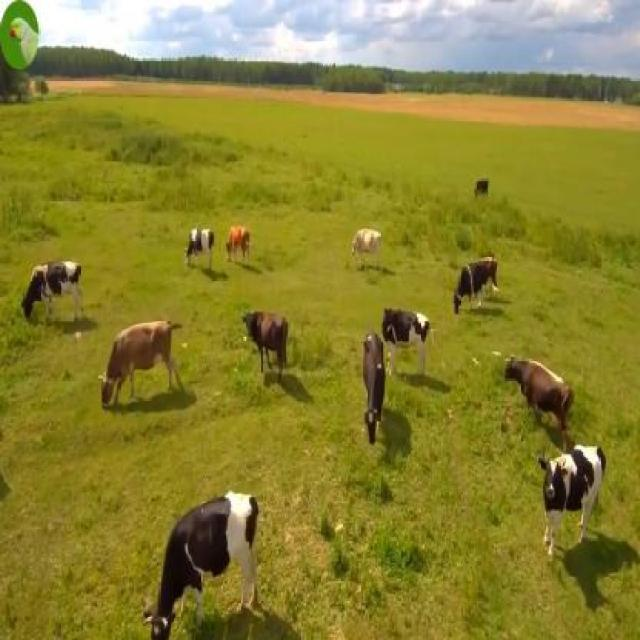Cow: (146, 492, 259, 638), (98, 318, 176, 414), (542, 446, 604, 566), (503, 352, 572, 440), (20, 258, 82, 338)
